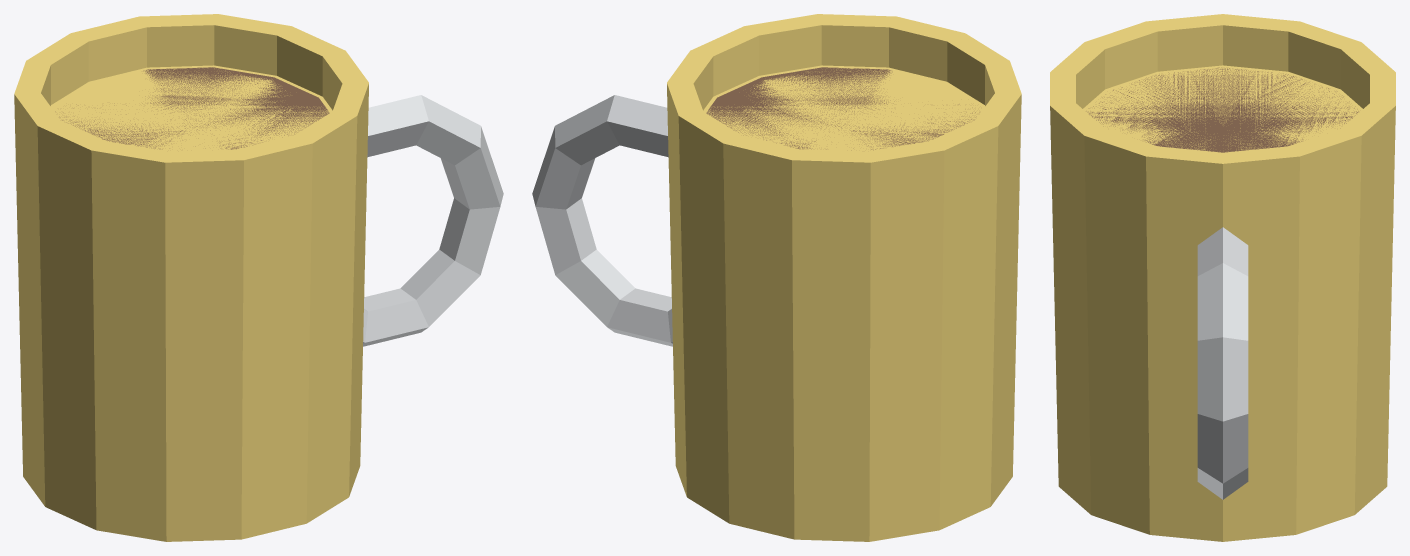
File: mug.glb
3 views of the same model, side by side, from view 1: azimuth 30°, elevation 25°; view 2: azimuth 150°, elevation 25°; view 3: azimuth 270°, elevation 25° (orthographic).
Size of the model in its own units: 0.121 by 0.095 by 0.078.
